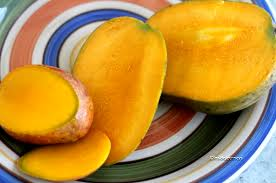mango: (79, 17, 167, 157), (152, 5, 276, 100), (3, 54, 91, 145)
